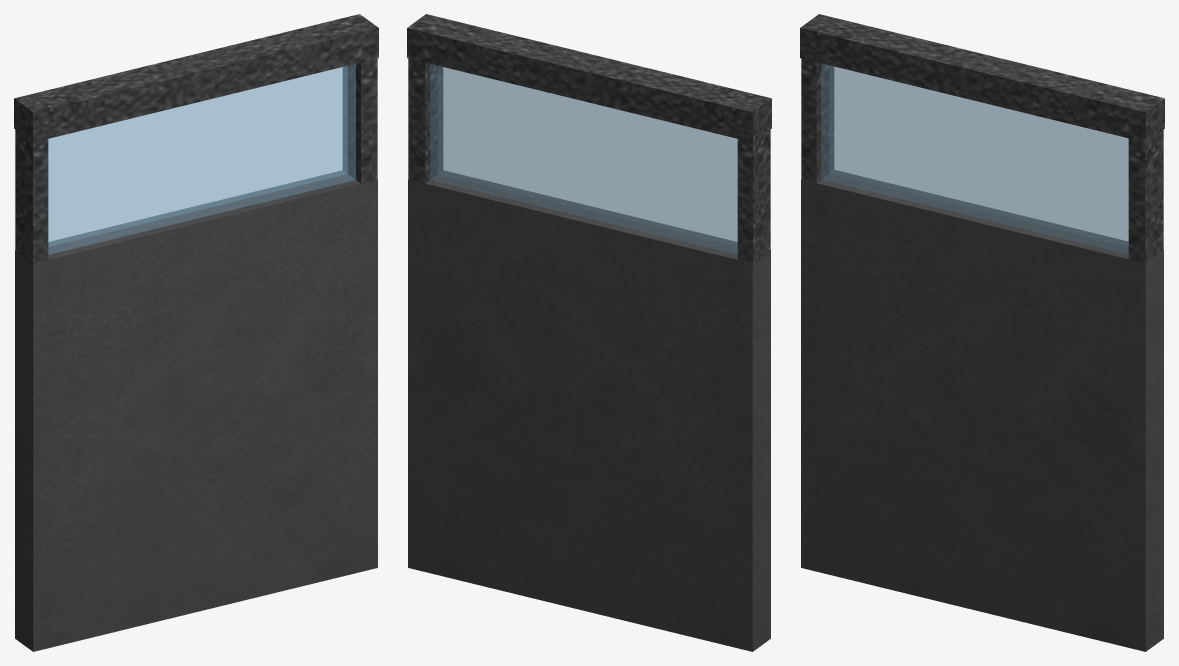
Rendered from 01_wall_half_panel.glb.
3 renders of one model, left to right at view 1: azimuth 30°, elevation 25°; view 2: azimuth 150°, elevation 25°; view 3: azimuth 330°, elevation 25°, orthographic.
Visible parts, largest first — view 1: Wall, Glass; view 2: Wall, Glass; view 3: Wall, Glass.
Boxes of the visible parts, <box> form: Wall: <box>14,14,378,651</box>; Glass: <box>48,64,355,254</box>; Wall: <box>407,14,771,651</box>; Glass: <box>430,64,737,254</box>; Wall: <box>800,14,1164,651</box>; Glass: <box>821,63,1128,253</box>.
Bounding box in the file's own units: 2 × 2.99 × 0.191.
